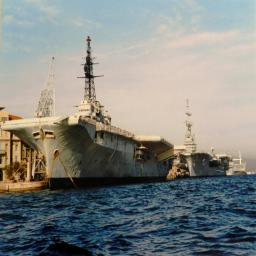Portanaves: (2, 33, 178, 194), (179, 96, 234, 183)
